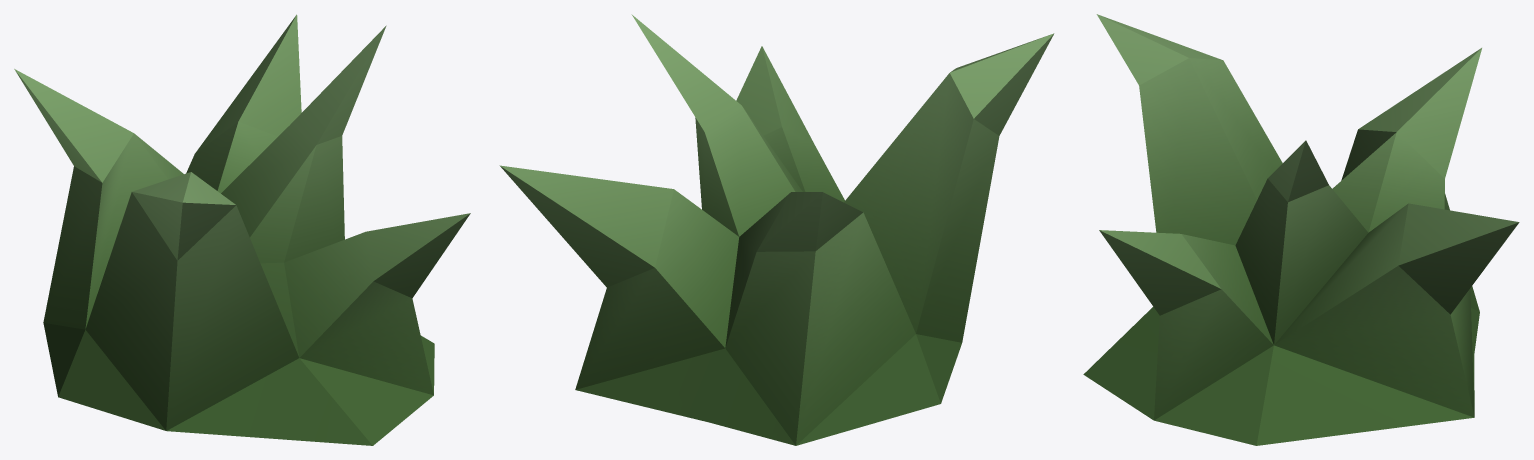
Rendered from Bush1_mdl.FBX.
The picture shows the model from 3 angles, left to right: view 1: azimuth 30°, elevation 25°; view 2: azimuth 150°, elevation 25°; view 3: azimuth 270°, elevation 25°; orthographic projection. The views are drawn at different scales.
Parts seen in each view (by area): view 1: bush1; view 2: bush1; view 3: bush1.
Boxes of the visible parts, x1,y1,x2,y2 form: bush1: [14, 14, 470, 445]; bush1: [499, 14, 1054, 445]; bush1: [1083, 14, 1519, 445].
Size of the model in its own units: 0.836 by 0.7162 by 0.9588.
Materials: 1 (1 with a texture image).
